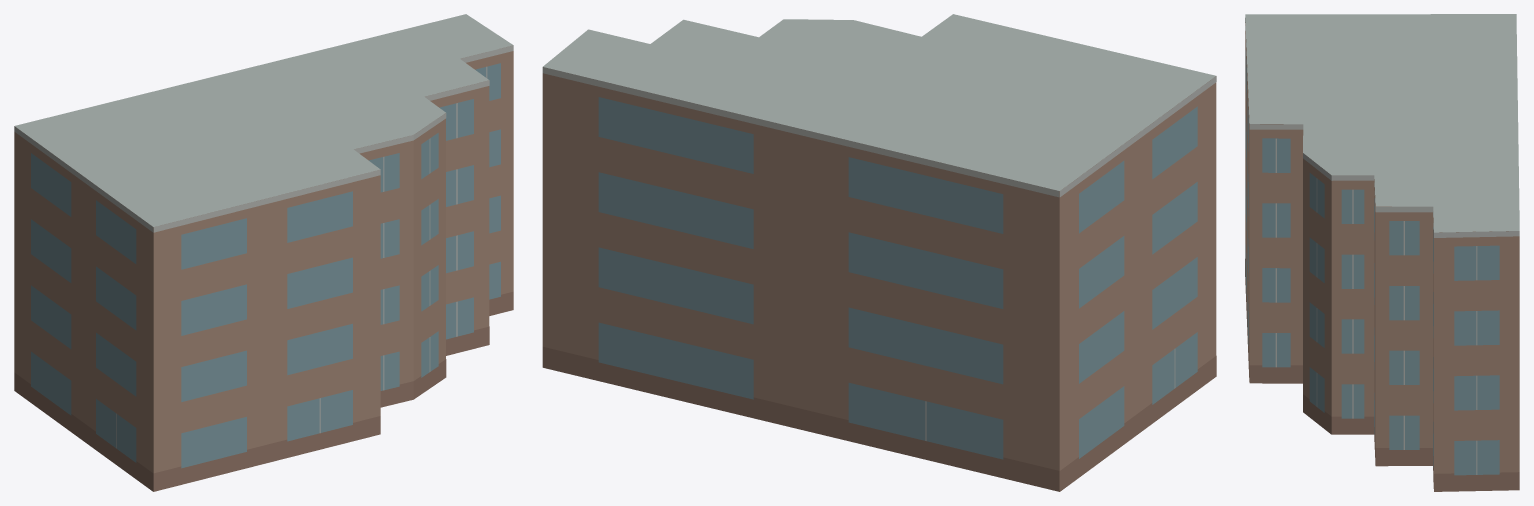
File: survey-upis-32638048.glb
3 renders of one model, left to right at view 1: azimuth 30°, elevation 25°; view 2: azimuth 150°, elevation 25°; view 3: azimuth 270°, elevation 25°, orthographic. The views are drawn at different scales.
Visible parts, largest first — view 1: survey-upis-32638048.tmp; view 2: survey-upis-32638048.tmp; view 3: survey-upis-32638048.tmp.
Boxes of the visible parts, box(x1,y1,x2,y2) form: survey-upis-32638048.tmp: box(14, 14, 513, 491); survey-upis-32638048.tmp: box(542, 14, 1216, 491); survey-upis-32638048.tmp: box(1245, 14, 1519, 491).
Bounding box in the file's own units: 20.8 × 11.5 × 11.05.
